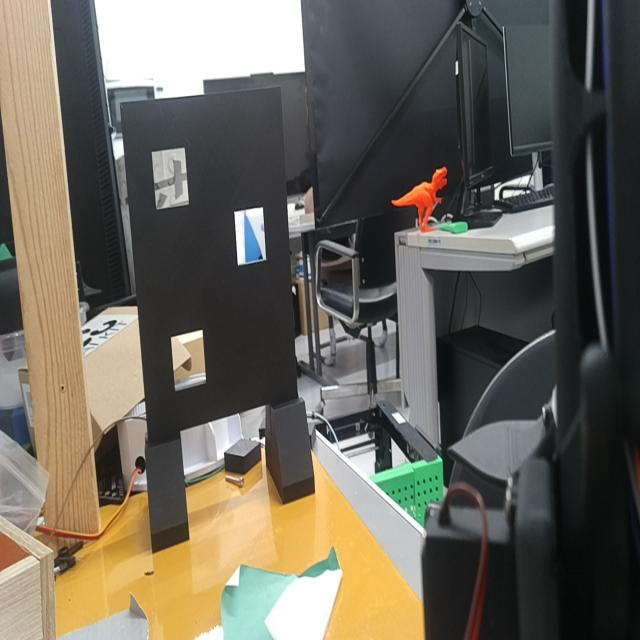Obstacle: (152, 146, 190, 212), (171, 329, 207, 391), (233, 207, 266, 265)
Wall: (122, 87, 298, 442)
